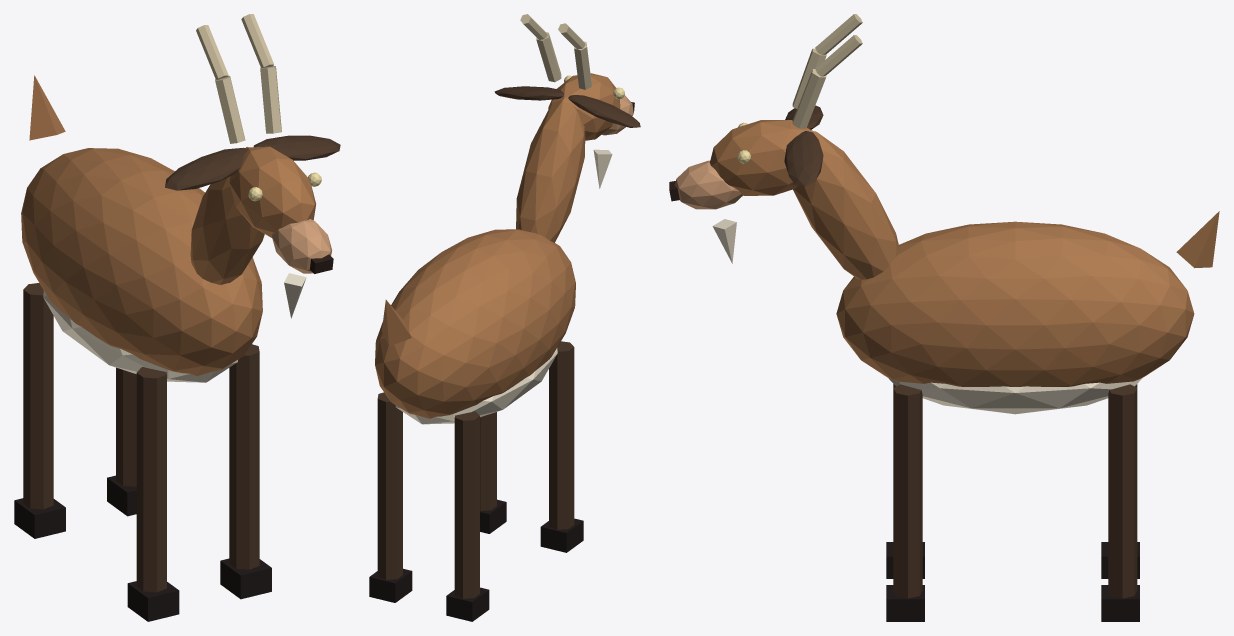
Rendered from goat.glb.
3 renders of one model, left to right at view 1: azimuth 30°, elevation 25°; view 2: azimuth 150°, elevation 25°; view 3: azimuth 270°, elevation 25°, orthographic. The views are drawn at different scales.
Parts seen in each view (by area): view 1: body, leg_FR_shaft, leg_BR_shaft, leg_FL_shaft, skull, neck, belly, leg_BL_shaft, muzzle, ear_1, leg_FR_hoof, leg_FL_hoof (+9 smaller); view 2: body, neck, leg_BR_shaft, leg_FR_shaft, leg_BL_shaft, skull, belly, leg_FL_shaft, ear_1, leg_FR_hoof, leg_BR_hoof, leg_BL_hoof (+6 smaller); view 3: body, neck, leg_BL_shaft, leg_FL_shaft, skull, belly, muzzle, ear, tail_mesh, leg_FL_hoof, leg_BL_hoof, horn_a.
Part boxes in pixels (x1,y1,x2,y2): body: [21, 148, 262, 375]; leg_FR_shaft: [136, 367, 166, 592]; leg_BR_shaft: [23, 283, 53, 509]; leg_FL_shaft: [229, 344, 259, 569]; skull: [229, 146, 315, 237]; neck: [190, 147, 264, 284]; belly: [43, 290, 237, 382]; leg_BL_shaft: [116, 367, 136, 486]; muzzle: [272, 219, 332, 273]; ear_1: [165, 147, 248, 190]; leg_FR_hoof: [127, 581, 179, 621]; leg_FL_hoof: [220, 558, 271, 599]; body: [375, 229, 575, 418]; neck: [516, 99, 585, 242]; leg_BR_shaft: [454, 411, 479, 598]; leg_FR_shaft: [549, 341, 574, 529]; leg_BL_shaft: [377, 392, 402, 579]; skull: [548, 73, 620, 140]; belly: [395, 348, 557, 424]; leg_FL_shaft: [480, 412, 496, 510]; ear_1: [568, 95, 640, 127]; leg_FR_hoof: [540, 518, 583, 552]; leg_BR_hoof: [446, 587, 489, 621]; leg_BL_hoof: [369, 568, 412, 602]; body: [836, 221, 1194, 386]; neck: [793, 131, 899, 279]; leg_BL_shaft: [1108, 384, 1137, 598]; leg_FL_shaft: [893, 384, 922, 598]; skull: [709, 120, 813, 195]; belly: [888, 377, 1143, 414]; muzzle: [674, 160, 742, 209]; ear: [784, 131, 823, 186]; tail_mesh: [1176, 211, 1219, 268]; leg_FL_hoof: [886, 585, 924, 621]; leg_BL_hoof: [1101, 585, 1139, 621]; horn_a: [792, 69, 826, 128].
Bounding box in the file's own units: 0.387 × 1.26 × 1.11.
